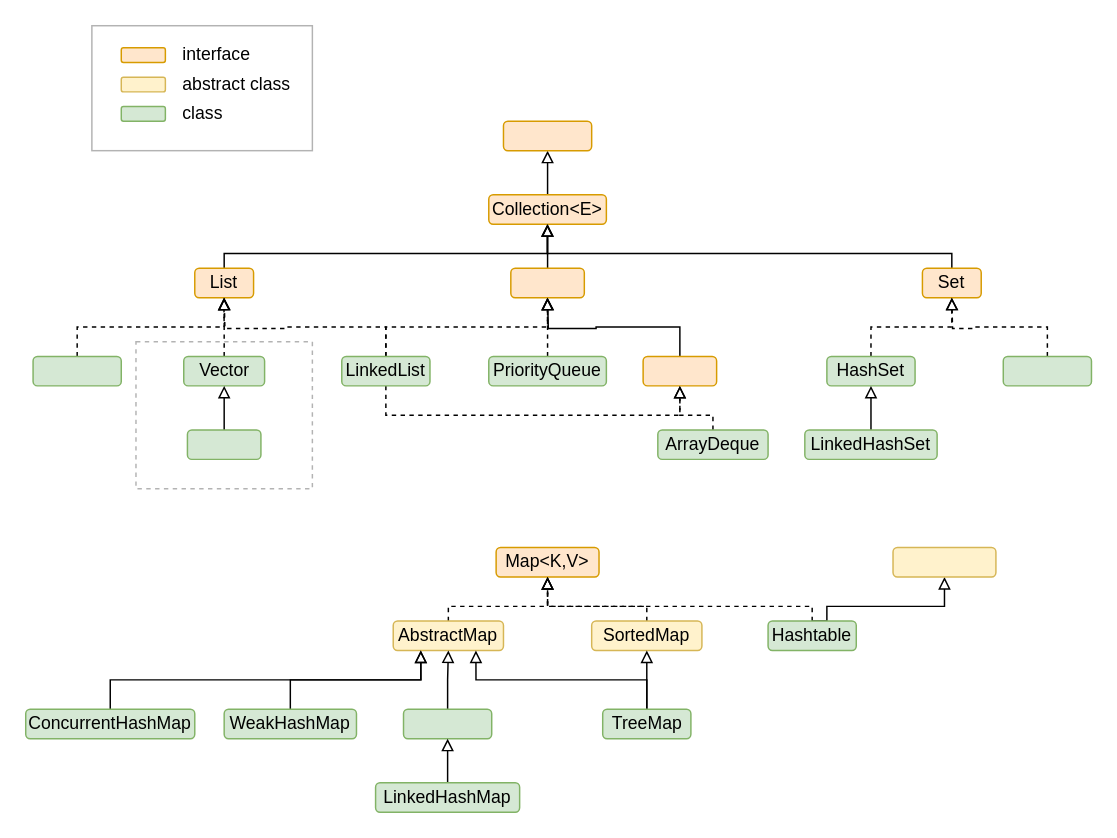
This 1117x838 diagram has some shape labels left out. The shapes that lost their labels are listed below. From the top down, each one's box as (x1, y1, x2, y2) in pixels, then its label:
(502, 120, 592, 151): Iterable
(509, 267, 584, 298): Queue
(32, 355, 121, 386): ArrayList
(642, 355, 717, 386): Deque
(1002, 355, 1091, 386): TreeSet
(186, 429, 261, 459): Stack
(892, 546, 996, 577): Dictionary
(402, 708, 492, 739): HashMap
